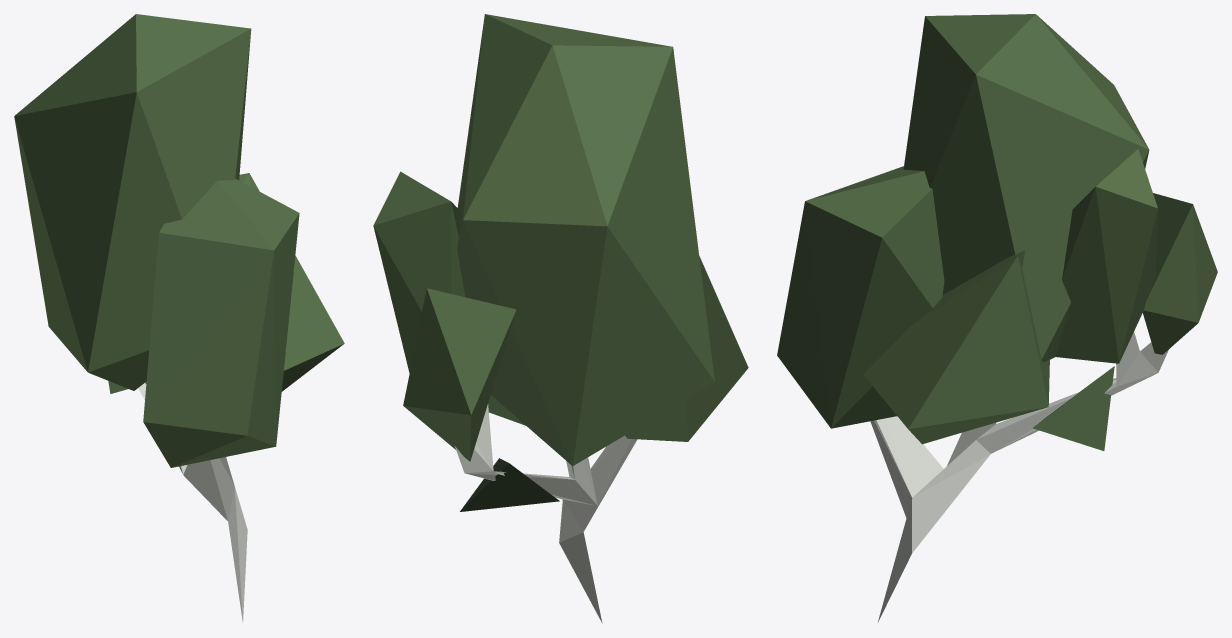
The picture shows the model from 3 angles, left to right: view 1: azimuth 30°, elevation 25°; view 2: azimuth 150°, elevation 25°; view 3: azimuth 270°, elevation 25°; orthographic projection. The views are drawn at different scales.
Parts seen in each view (by area): view 1: cube-002; view 2: cube-002; view 3: cube-002.
Boxes of the visible parts, left/top/right/bottom form: cube-002: left=14, top=14, right=344, bottom=622; cube-002: left=373, top=14, right=748, bottom=623; cube-002: left=777, top=14, right=1217, bottom=622.
Size of the model in its own units: 1.6 by 3.56 by 2.39.
